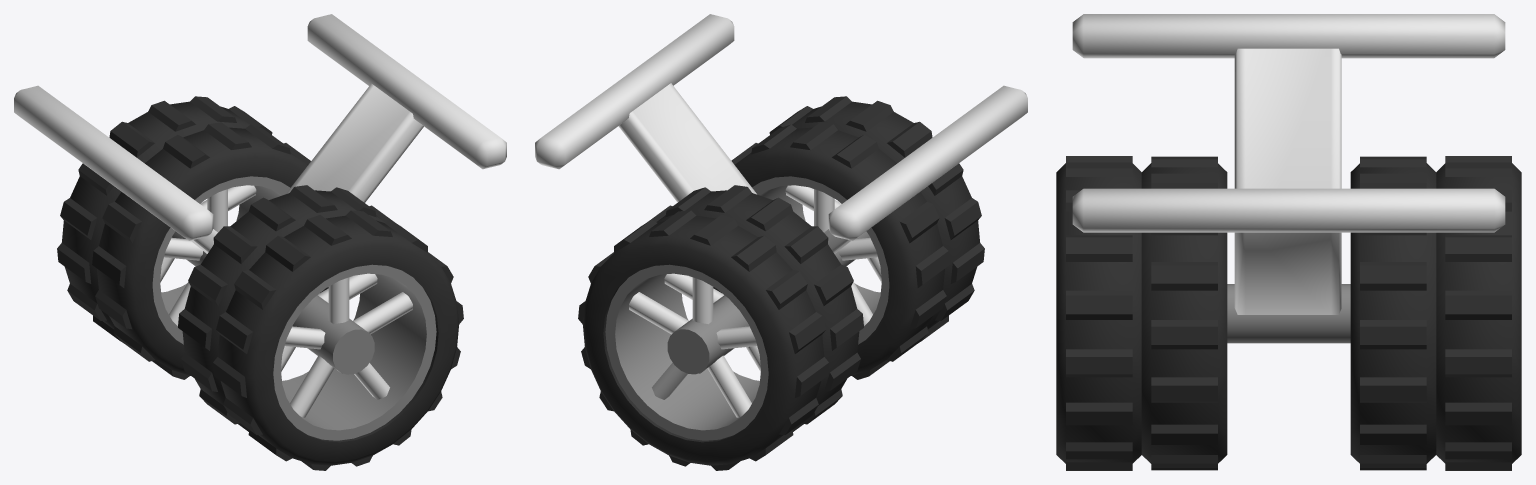
Rendered from wheels_rubber_mid_double.fbx.
3 renders of one model, left to right at view 1: azimuth 30°, elevation 25°; view 2: azimuth 150°, elevation 25°; view 3: azimuth 270°, elevation 25°, orthographic. The views are drawn at different scales.
Visible parts, largest first — view 1: wheels_rubber_mid_double; view 2: wheels_rubber_mid_double; view 3: wheels_rubber_mid_double.
Part boxes in pixels (box(x1,y1,x2,y2)): wheels_rubber_mid_double: box(14, 14, 506, 470); wheels_rubber_mid_double: box(535, 14, 1027, 470); wheels_rubber_mid_double: box(1056, 14, 1521, 470).
Bounding box in the file's own units: 199 × 169 × 203.
